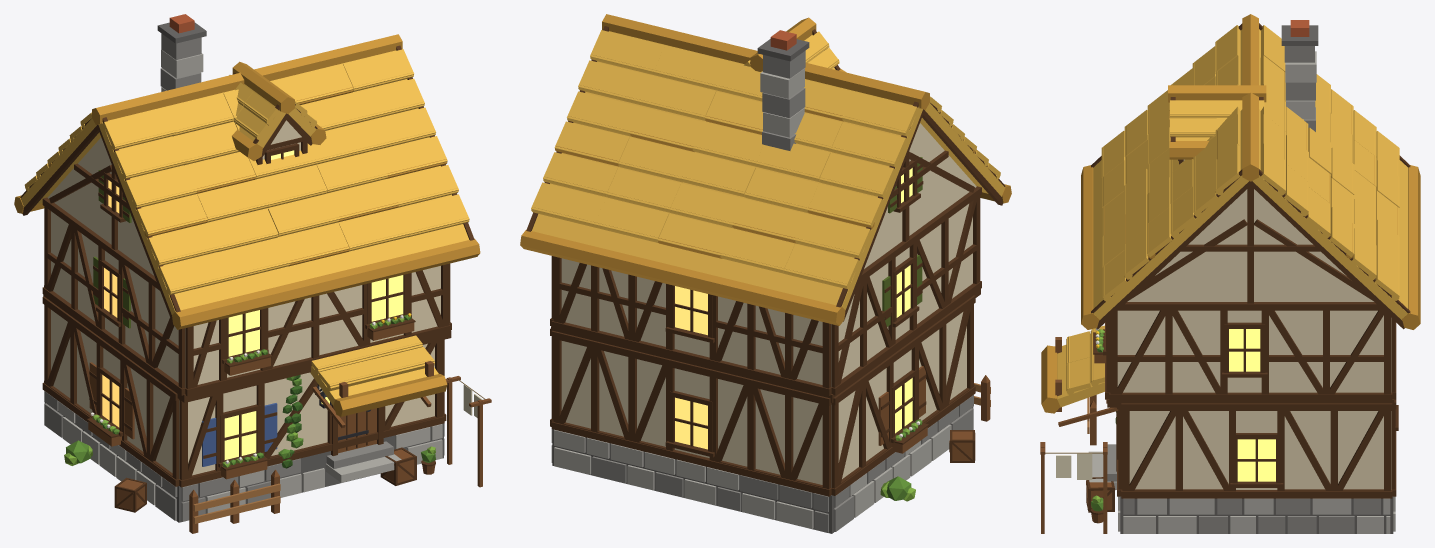
The model's file is Town_03_Thatch.fbx.
The picture shows the model from 3 angles, left to right: view 1: azimuth 30°, elevation 25°; view 2: azimuth 150°, elevation 25°; view 3: azimuth 270°, elevation 25°; orthographic projection. The views are drawn at different scales.
Visible parts, largest first — view 1: Town_03_Thatch_LOD0; view 2: Town_03_Thatch_LOD0; view 3: Town_03_Thatch_LOD0.
Boxes of the visible parts, bbox=[...] form: Town_03_Thatch_LOD0: bbox=[14, 14, 491, 533]; Town_03_Thatch_LOD0: bbox=[520, 14, 1011, 533]; Town_03_Thatch_LOD0: bbox=[1040, 14, 1420, 533].
Size of what is drawn, in the model's own units: 7.74 by 9.73 by 7.91.
